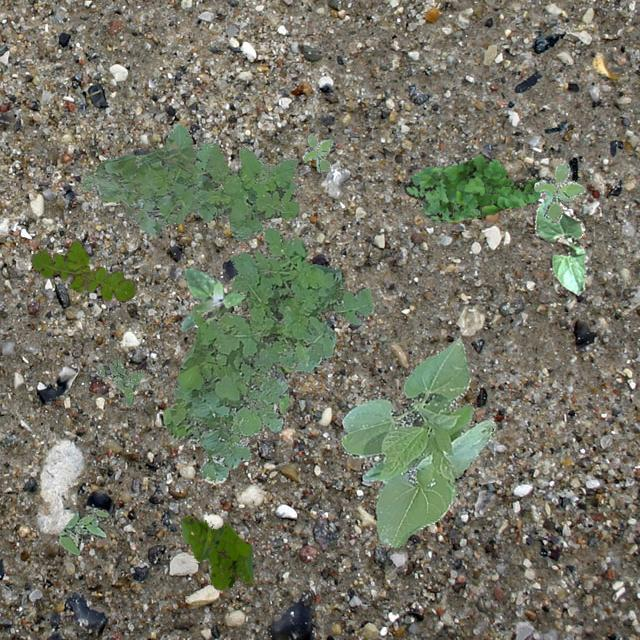crop: (340, 336, 494, 546), (534, 188, 586, 294)
weed: (162, 222, 374, 482), (81, 123, 298, 240), (402, 152, 550, 222), (30, 240, 136, 300), (180, 516, 252, 590), (180, 266, 244, 331), (532, 162, 584, 222), (96, 356, 146, 406), (58, 506, 108, 554), (302, 132, 332, 172), (98, 194, 134, 222), (274, 362, 290, 414)
